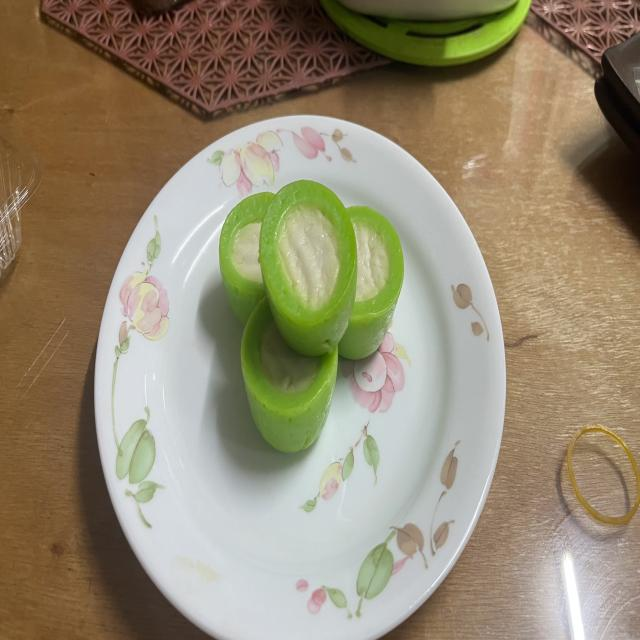nona-manis: (259, 180, 358, 356), (241, 298, 338, 451), (339, 207, 404, 360), (219, 193, 274, 324)
